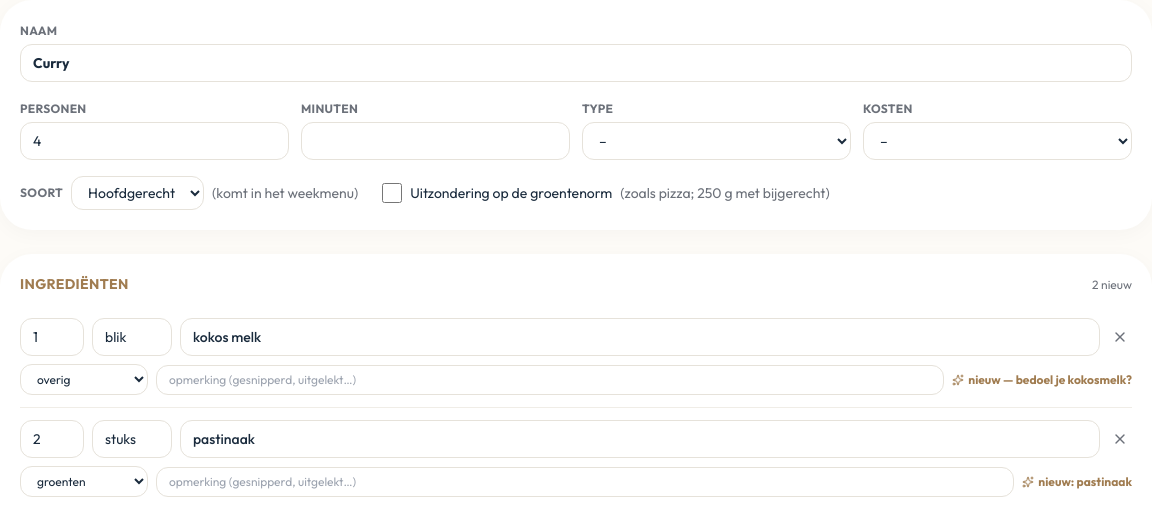
Test: RecipeEditor ingredient previews › does not move a removed row's preview onto the next row
The image size is (1152, 522).
Expected: the button "nieuw — bedoel je kokosmelk?" is shown, [952,372,1132,388]
What coordinates should you click on to do the following:
click the button named "kokos melk verwijderen"
I would click on:
 (1120, 337)
Its box is [1108,325,1132,349].
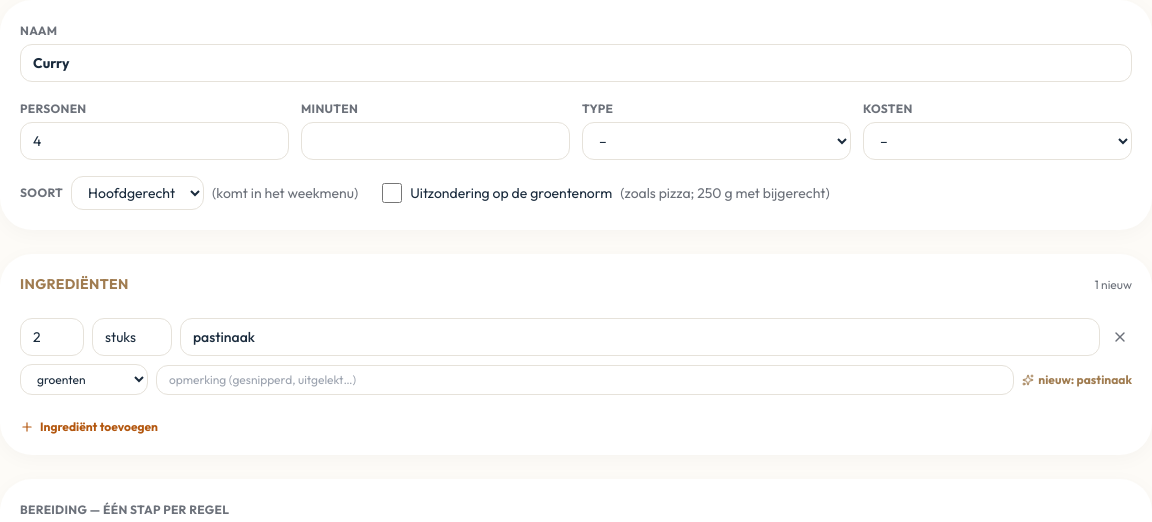
Expected: the text "nieuw: pastinaak" is shown, [1022,372,1132,388]
Result: the button "bedoel je" is gone
